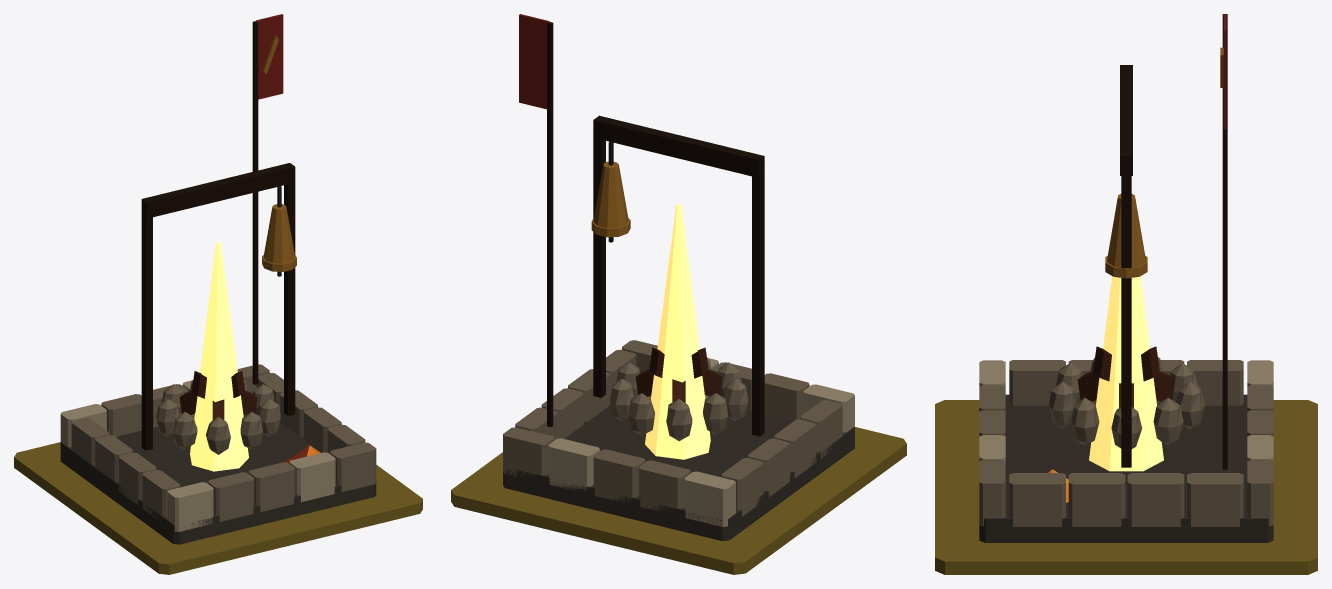
Rendered from watchfire_t6.glb.
3 views of the same model, side by side, from view 1: azimuth 30°, elevation 25°; view 2: azimuth 150°, elevation 25°; view 3: azimuth 270°, elevation 25° (orthographic). The views are drawn at different scales.
Parts seen in each view (by area): view 1: MMR | watchfire | T06 Architecture.001, MMR | watchfire | Tier 06 Ground.001, MMR | watchfire | T06 Flame Glow.001, MMR | watchfire | T06 Banner Flag 1.001; view 2: MMR | watchfire | T06 Architecture.001, MMR | watchfire | Tier 06 Ground.001, MMR | watchfire | T06 Flame Glow.001, MMR | watchfire | T06 Banner Flag 1.001; view 3: MMR | watchfire | T06 Architecture.001, MMR | watchfire | Tier 06 Ground.001, MMR | watchfire | T06 Flame Glow.001.
Part boxes in pixels (x1,y1,x2,y2): MMR | watchfire | T06 Architecture.001: [60, 21, 376, 544]; MMR | watchfire | Tier 06 Ground.001: [14, 442, 422, 574]; MMR | watchfire | T06 Flame Glow.001: [190, 242, 248, 471]; MMR | watchfire | T06 Banner Flag 1.001: [256, 14, 283, 99]; MMR | watchfire | T06 Architecture.001: [503, 22, 854, 541]; MMR | watchfire | Tier 06 Ground.001: [451, 427, 906, 574]; MMR | watchfire | T06 Flame Glow.001: [645, 204, 710, 459]; MMR | watchfire | T06 Banner Flag 1.001: [519, 14, 549, 109]; MMR | watchfire | T06 Architecture.001: [979, 14, 1273, 542]; MMR | watchfire | Tier 06 Ground.001: [935, 400, 1317, 574]; MMR | watchfire | T06 Flame Glow.001: [1089, 276, 1163, 471].
Size of the model in its own units: 1.3 by 1.97 by 1.3.
Materials: 2 (1 with a texture image).
